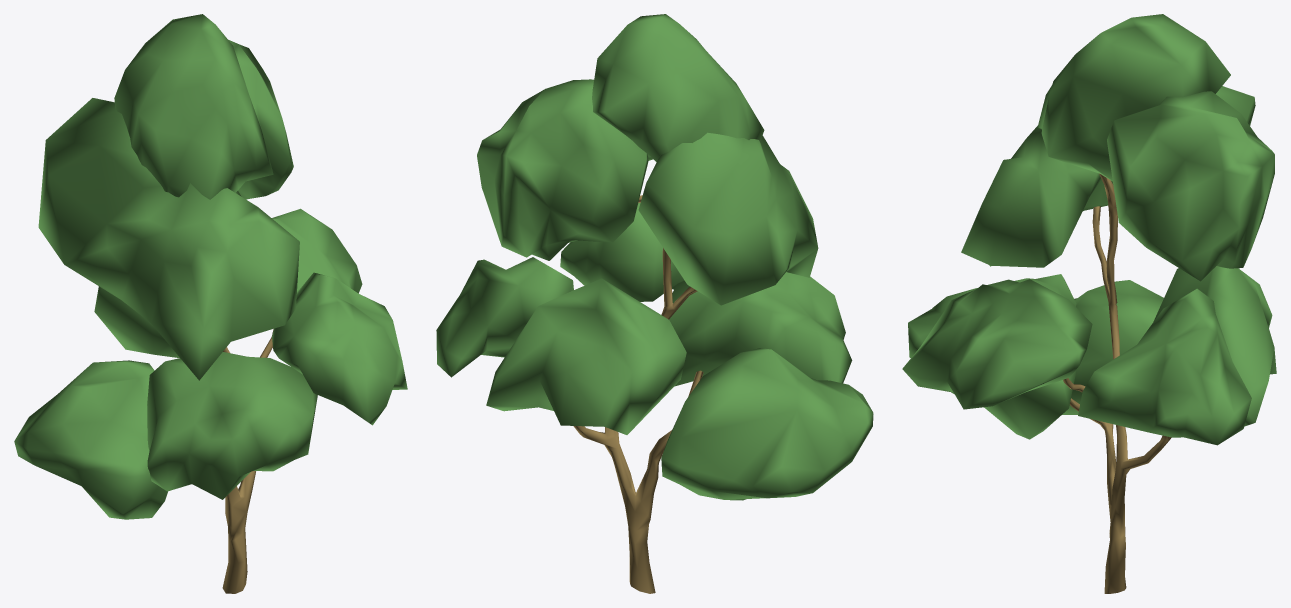
Rendered from tree2-transformed.glb.
3 views of the same model, side by side, from view 1: azimuth 30°, elevation 25°; view 2: azimuth 150°, elevation 25°; view 3: azimuth 270°, elevation 25° (orthographic). The views are drawn at different scales.
Visible parts, largest first — view 1: Cube.408; view 2: Cube.408; view 3: Cube.408.
Boxes of the visible parts, x1,y1,x2,y2 form: Cube.408: (14,14,407,593); Cube.408: (436,14,873,593); Cube.408: (902,14,1276,593).
Bounding box in the file's own units: 5.4 × 8.12 × 4.88.
Materials: 1 (1 with a texture image).
